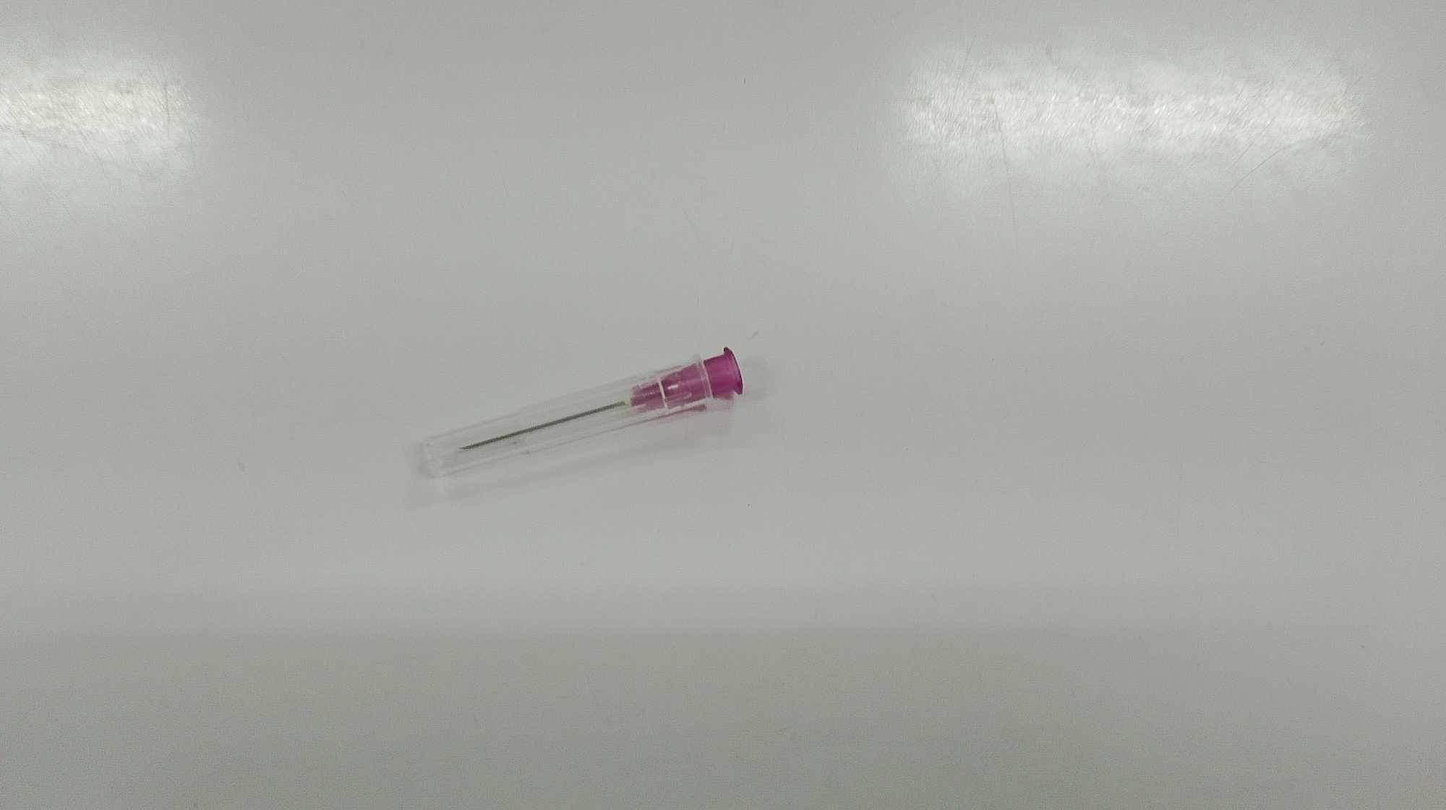General: (625, 344, 745, 419)
Sharps: (412, 344, 745, 482)
